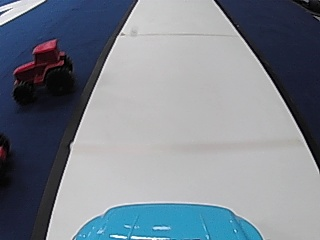Tracktor: (12, 36, 74, 105)
